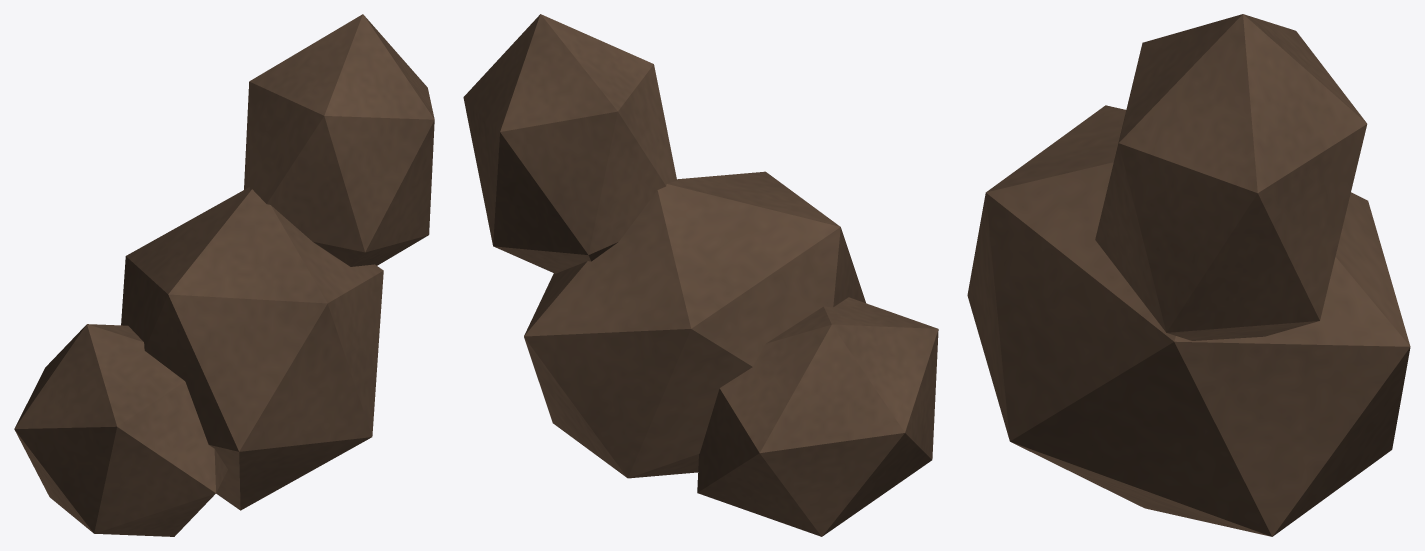
Rendered from falling_rocks.glb.
The picture shows the model from 3 angles, left to right: view 1: azimuth 30°, elevation 25°; view 2: azimuth 150°, elevation 25°; view 3: azimuth 270°, elevation 25°; orthographic projection. The views are drawn at different scales.
Visible parts, largest first — view 1: falling_rocks; view 2: falling_rocks; view 3: falling_rocks.
Boxes of the visible parts, bbox=[...] form: falling_rocks: bbox=[14, 14, 434, 536]; falling_rocks: bbox=[463, 14, 938, 536]; falling_rocks: bbox=[967, 14, 1410, 536].
Size of the model in its own units: 1.61 by 1.61 by 1.05.
Materials: 1 (1 with a texture image).
